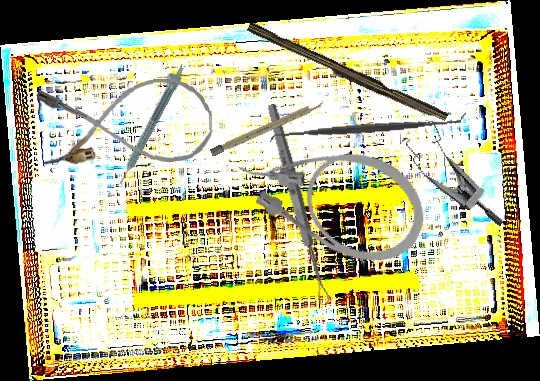Cannula: (223, 106, 442, 282), (35, 76, 215, 169)
Handpiece: (111, 62, 187, 187)
Scalpel Handle: (243, 21, 451, 126), (209, 99, 326, 157)
Spatula Surgical: (268, 110, 468, 146)
Speculum: (387, 112, 530, 228)
Surgical Spoon: (264, 102, 332, 307)
